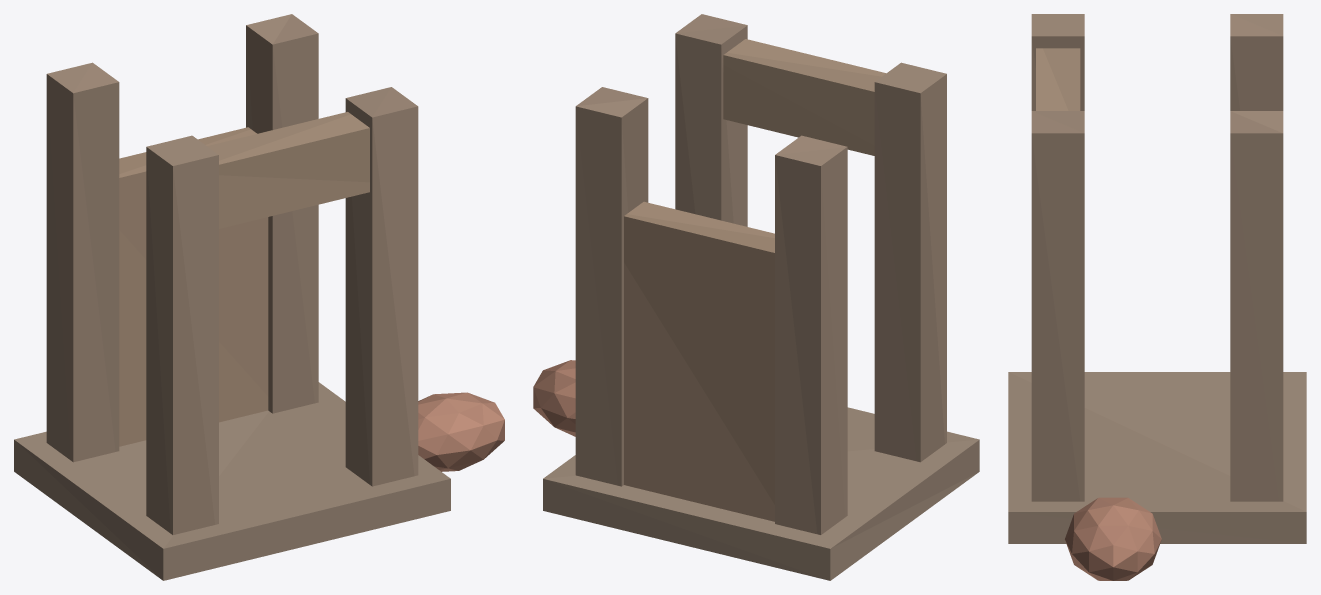
File: ruined_watchtower.glb
3 views of the same model, side by side, from view 1: azimuth 30°, elevation 25°; view 2: azimuth 150°, elevation 25°; view 3: azimuth 270°, elevation 25° (orthographic).
Parts seen in each view (by area): view 1: base, column_-0.52_0.45, column_-0.52_-0.45, column_0.52_-0.45, rear_wall, column_0.52_0.45, lintel, debris; view 2: rear_wall, column_-0.52_-0.45, column_-0.52_0.45, base, column_0.52_0.45, lintel, column_0.52_-0.45, debris; view 3: base, column_0.52_-0.45, column_0.52_0.45, debris, column_-0.52_0.45, lintel, column_-0.52_-0.45.
Part boxes in pixels (x1,y1,x2,y2): base: (14, 382, 450, 580); column_-0.52_0.45: (46, 62, 119, 462); column_-0.52_-0.45: (146, 135, 218, 534); column_0.52_-0.45: (345, 87, 418, 486); rear_wall: (119, 127, 268, 446); column_0.52_0.45: (246, 14, 318, 413); lintel: (207, 112, 369, 228); debris: (418, 392, 504, 471); rear_wall: (624, 201, 774, 521); column_-0.52_-0.45: (874, 62, 946, 462); column_-0.52_0.45: (775, 135, 847, 534); base: (543, 407, 979, 580); column_0.52_0.45: (575, 87, 648, 486); lintel: (723, 39, 885, 155); column_0.52_-0.45: (675, 14, 747, 226); debris: (533, 360, 575, 436); base: (1008, 372, 1306, 543); column_0.52_-0.45: (1031, 111, 1084, 501); column_0.52_0.45: (1230, 111, 1283, 501); debris: (1064, 497, 1161, 580); column_-0.52_0.45: (1230, 14, 1283, 110); lintel: (1036, 48, 1080, 110); column_-0.52_-0.45: (1031, 14, 1084, 110).
Size of the model in its own units: 2.05 by 2.03 by 1.35.
